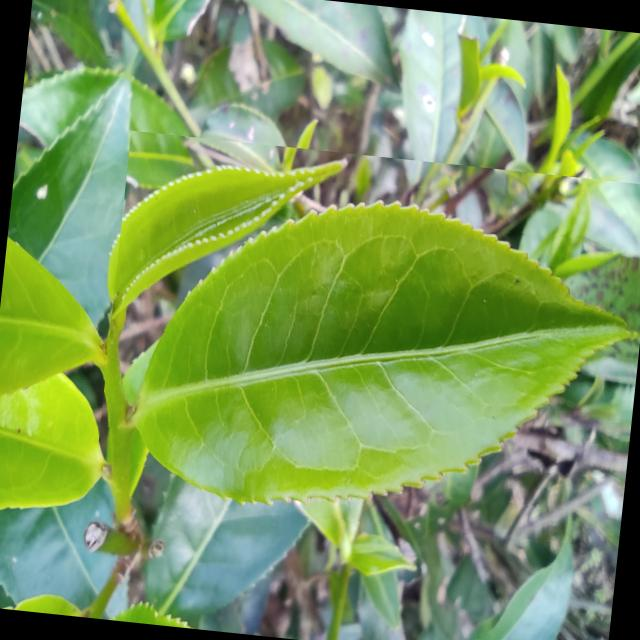Category B(2-4 days): (91, 129, 640, 564)
